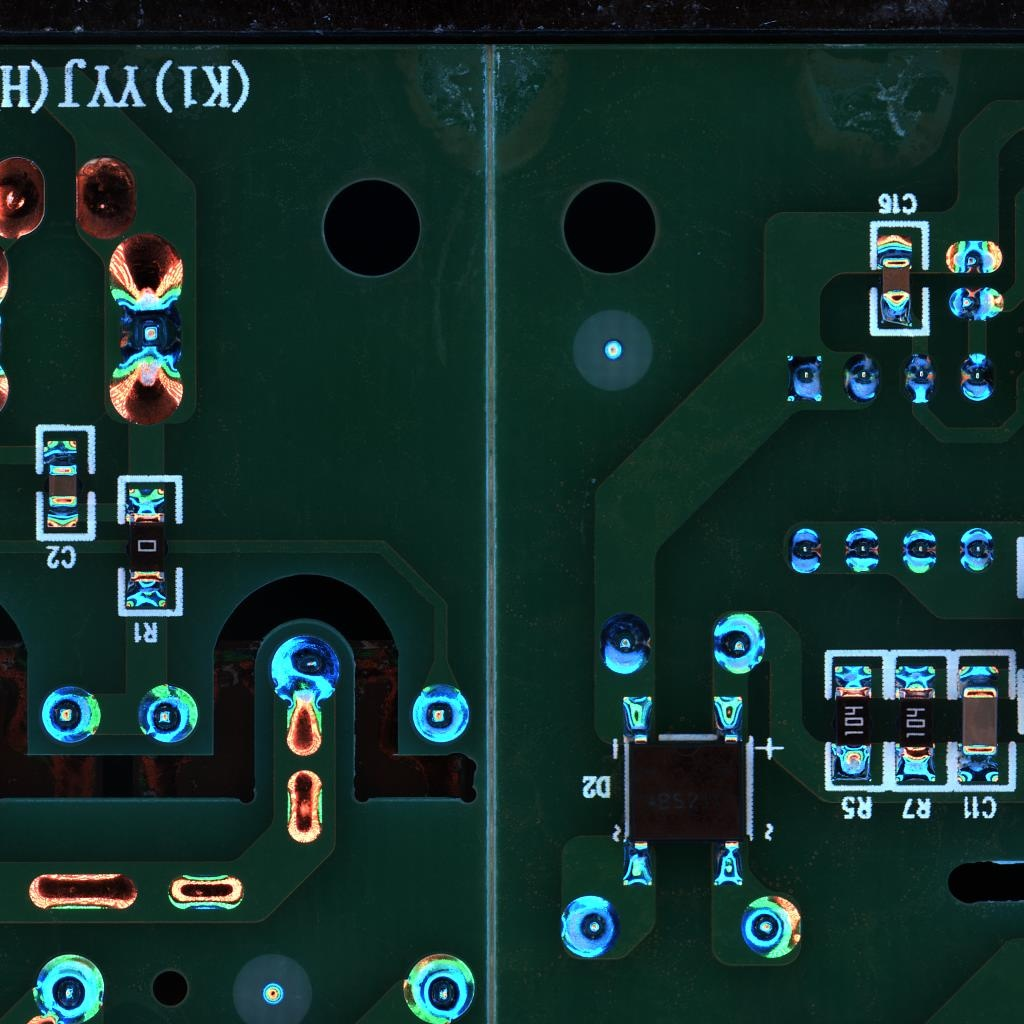spot: (110, 292, 185, 373), (399, 952, 478, 1024), (29, 952, 108, 1024), (268, 634, 342, 707), (558, 895, 622, 965), (740, 891, 803, 960), (409, 682, 474, 747), (136, 682, 201, 746), (38, 684, 104, 746), (710, 609, 768, 676), (599, 613, 654, 679), (944, 236, 1004, 274), (841, 352, 883, 403), (842, 524, 881, 576), (785, 352, 824, 403), (901, 351, 936, 405), (958, 352, 995, 403), (901, 526, 938, 576), (947, 287, 1007, 317), (958, 525, 994, 574), (786, 526, 822, 575)
